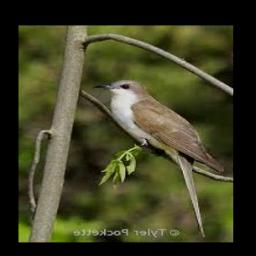Cuckoo: (92, 80, 225, 172)
